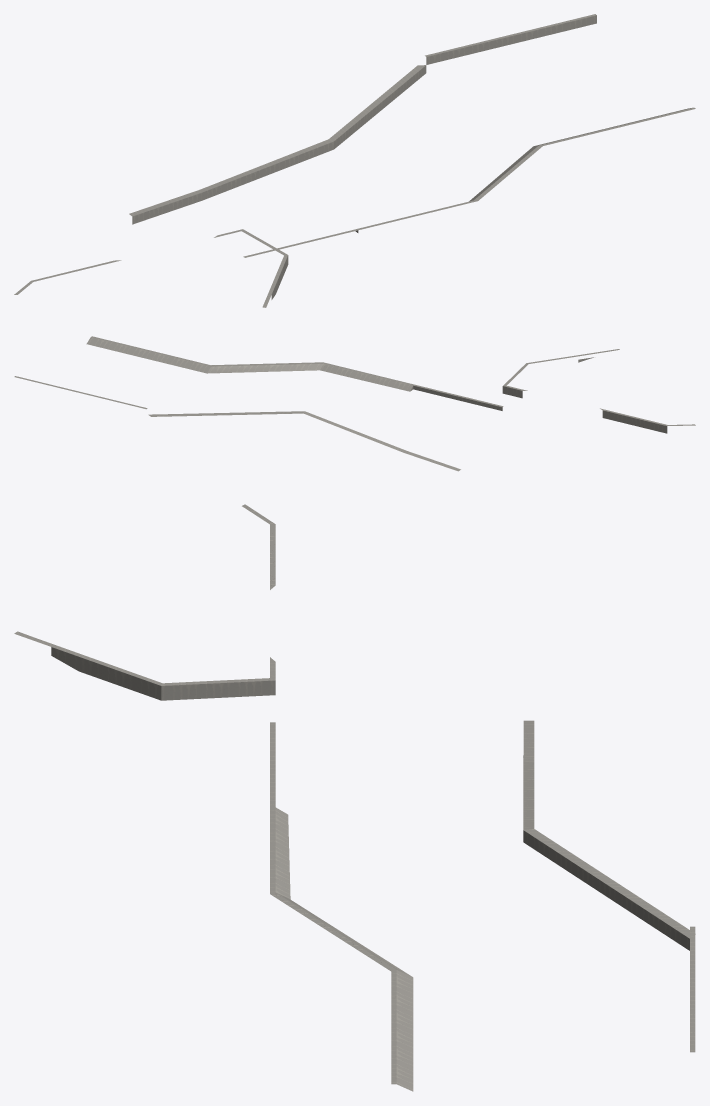
The model's file is kd_stage_136282_1_37.glb.
3 renders of one model, top to bottom at view 1: azimuth 30°, elevation 25°; view 2: azimuth 150°, elevation 25°; view 3: azimuth 270°, elevation 25°, orthographic. The views are drawn at different scales.
Parts seen in each view (by area): view 1: kd_stage_136282_1_37; view 2: kd_stage_136282_1_37; view 3: kd_stage_136282_1_37.
Boxes of the visible parts, bbox=[...] form: kd_stage_136282_1_37: bbox=[14, 14, 695, 307]; kd_stage_136282_1_37: bbox=[14, 336, 695, 471]; kd_stage_136282_1_37: bbox=[14, 504, 695, 1091].
Size of the model in its own units: 23.52 by 1.51 by 12.59.
1 material, 1 textured.
